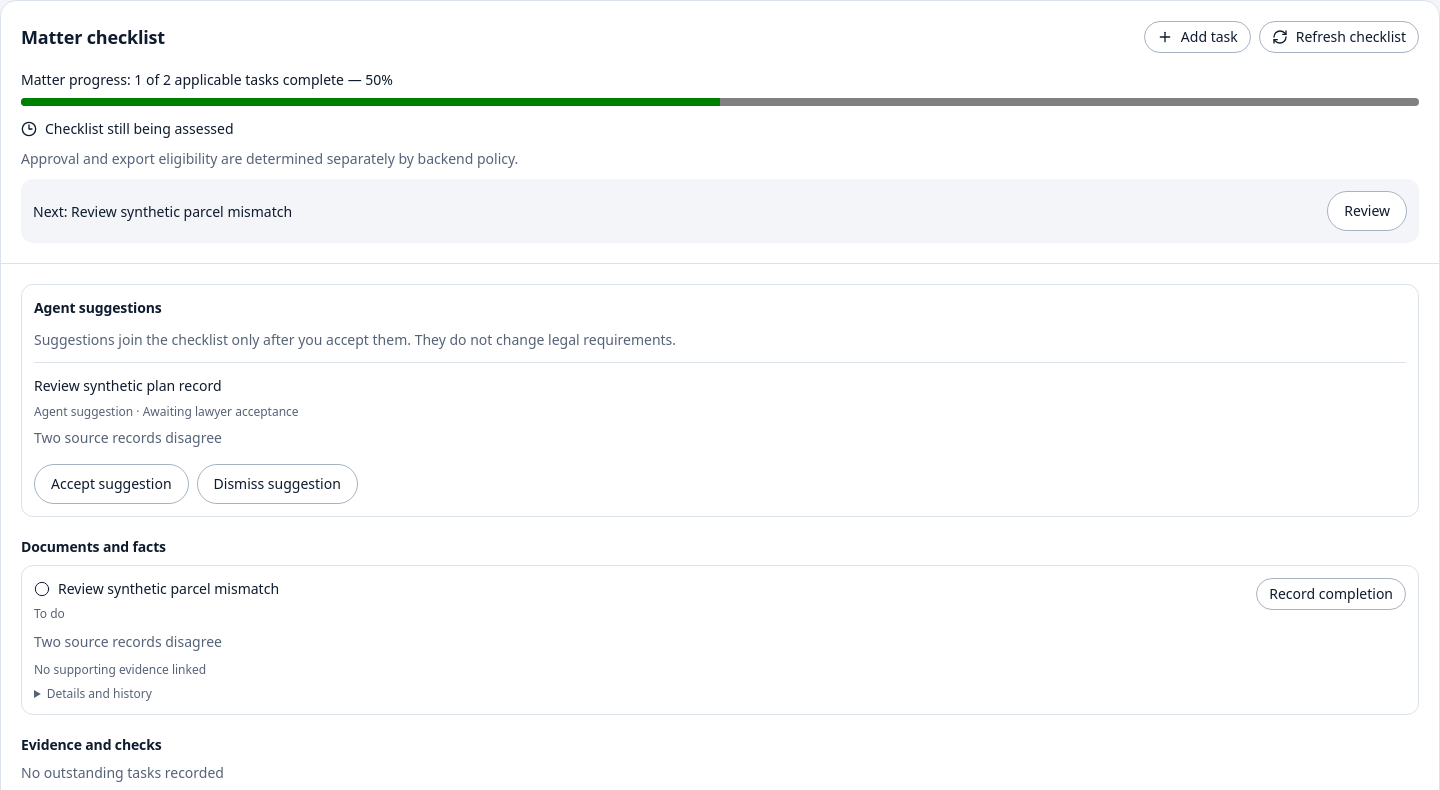
keeps agent suggestions outside progress until lawyer acceptance
Click the button "Accept suggestion" at (111, 484), box [34, 464, 189, 504]
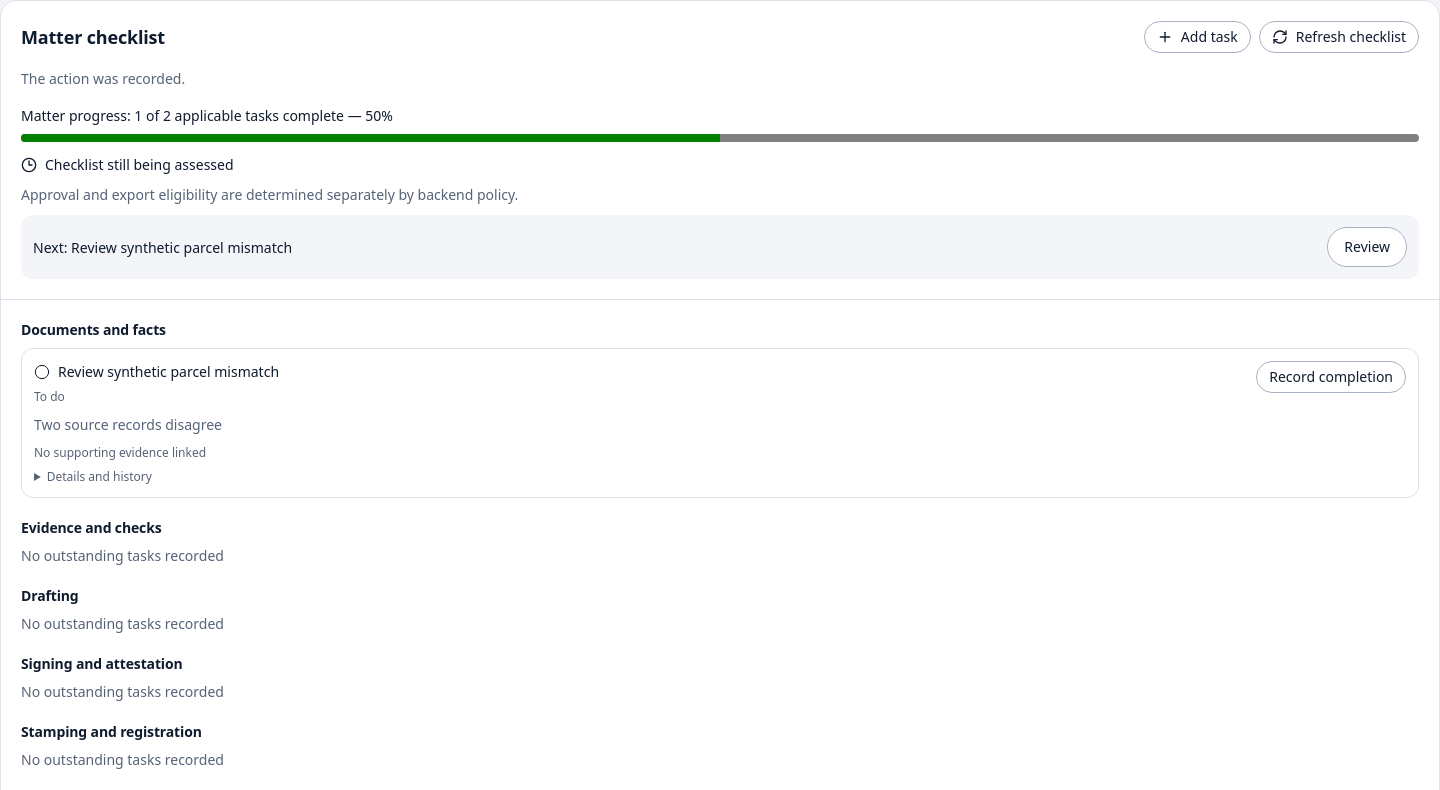
Expected: the progress indicator holds "50", [21, 134, 1419, 142]
Result: the text "Review synthetic plan record" is gone
